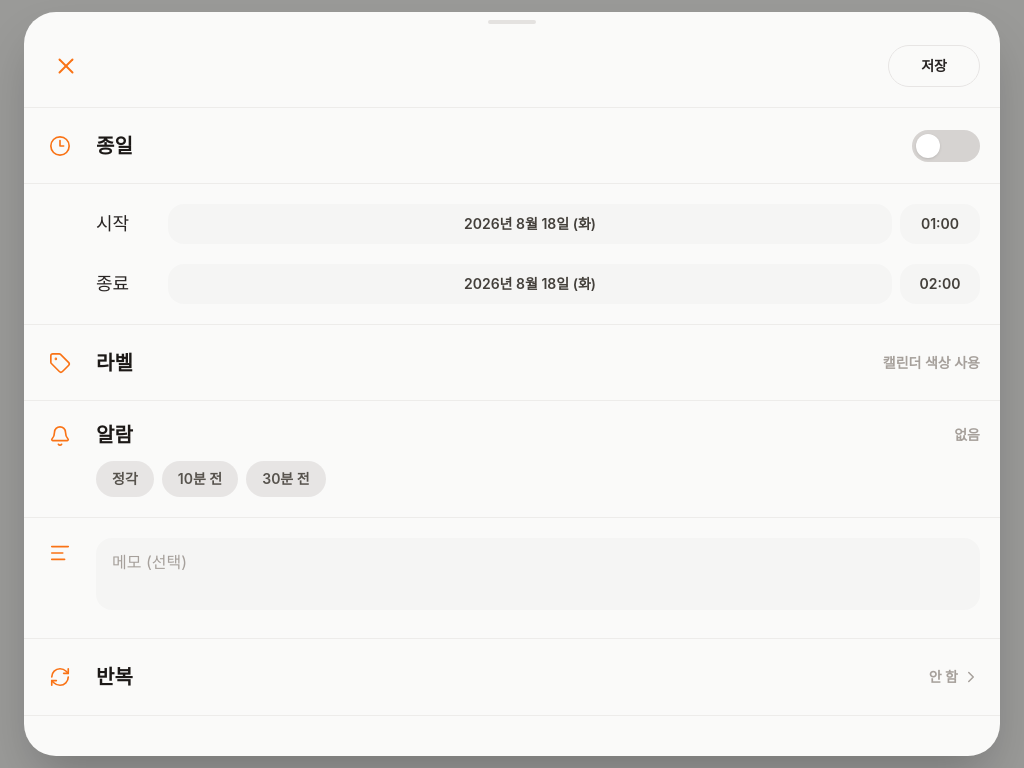
it: EventFormModal › 과거 일반 일정은 반복 일정으로 전환할 수 없다
The image size is (1024, 768).
(page scrolled)
Step 1. Click the text "안 함" → click(943, 677), box [929,667,958,687]
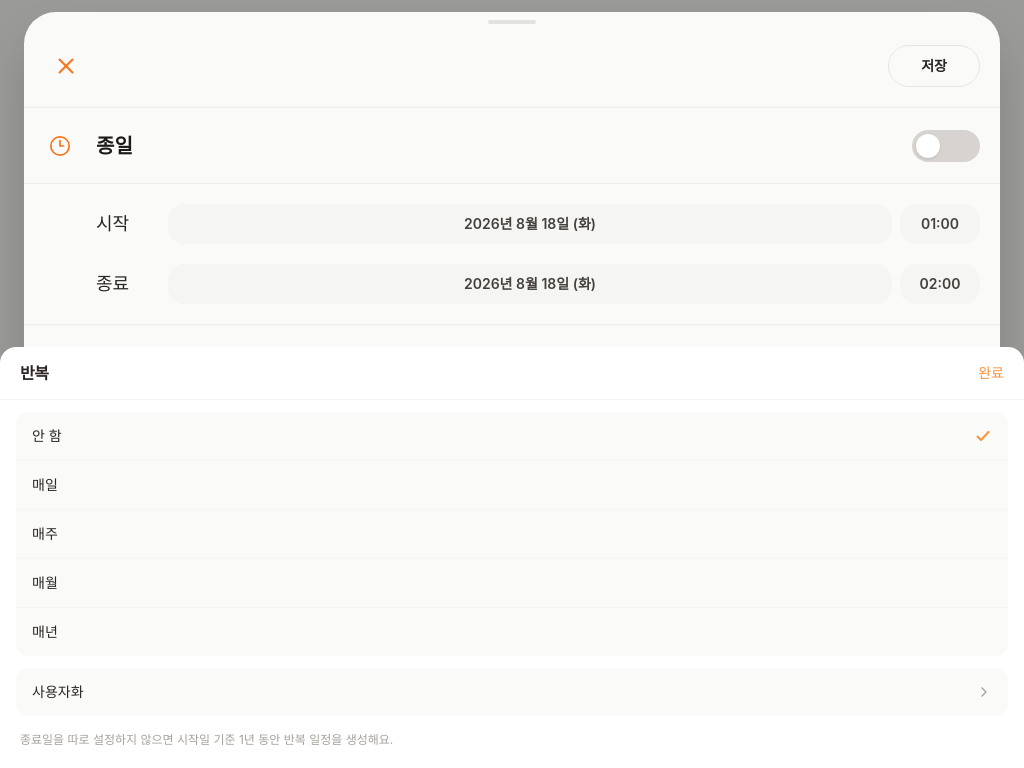
Step 2. Click the button "매일" → click(45, 484), box [16,461,1008,510]
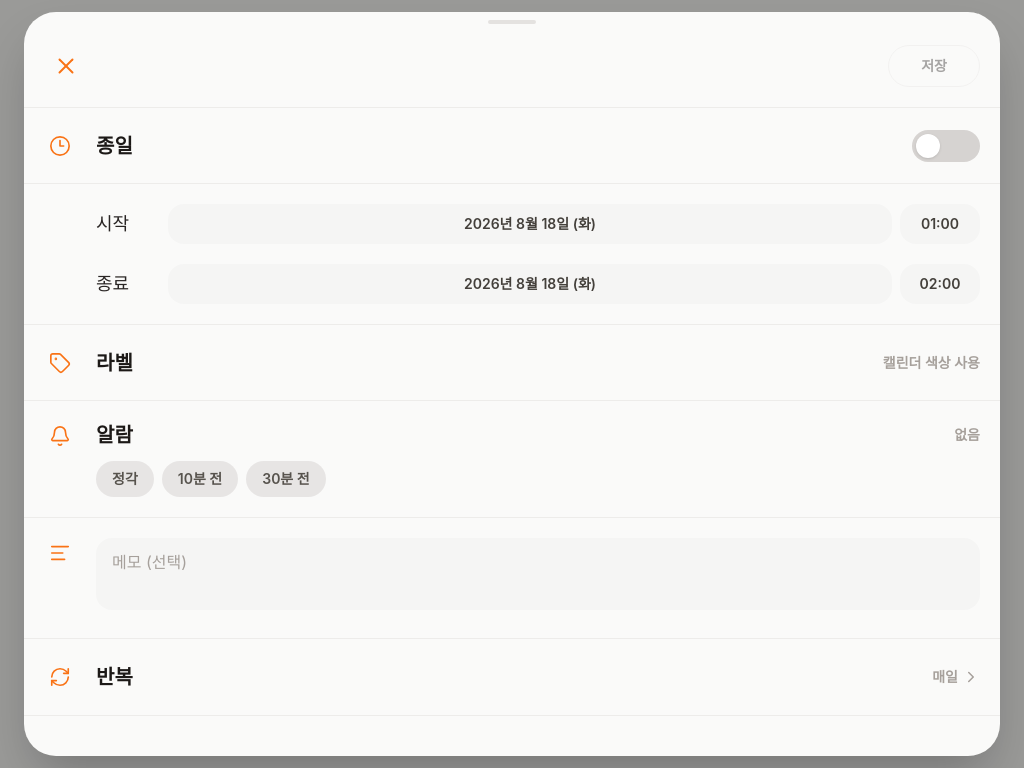
Expected: the button "저장" is disabled, [888,45,980,87]
